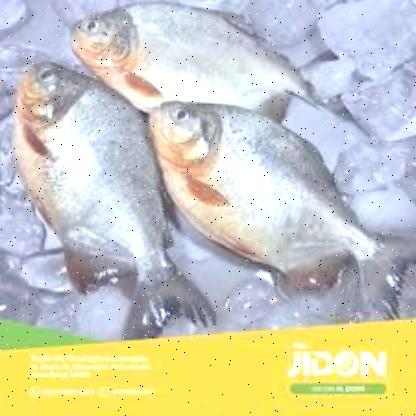ikan-pacu: (11, 61, 209, 329), (150, 103, 390, 290), (68, 2, 322, 108)
